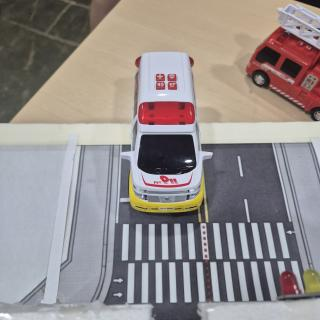Ambulance: (121, 52, 212, 213)
